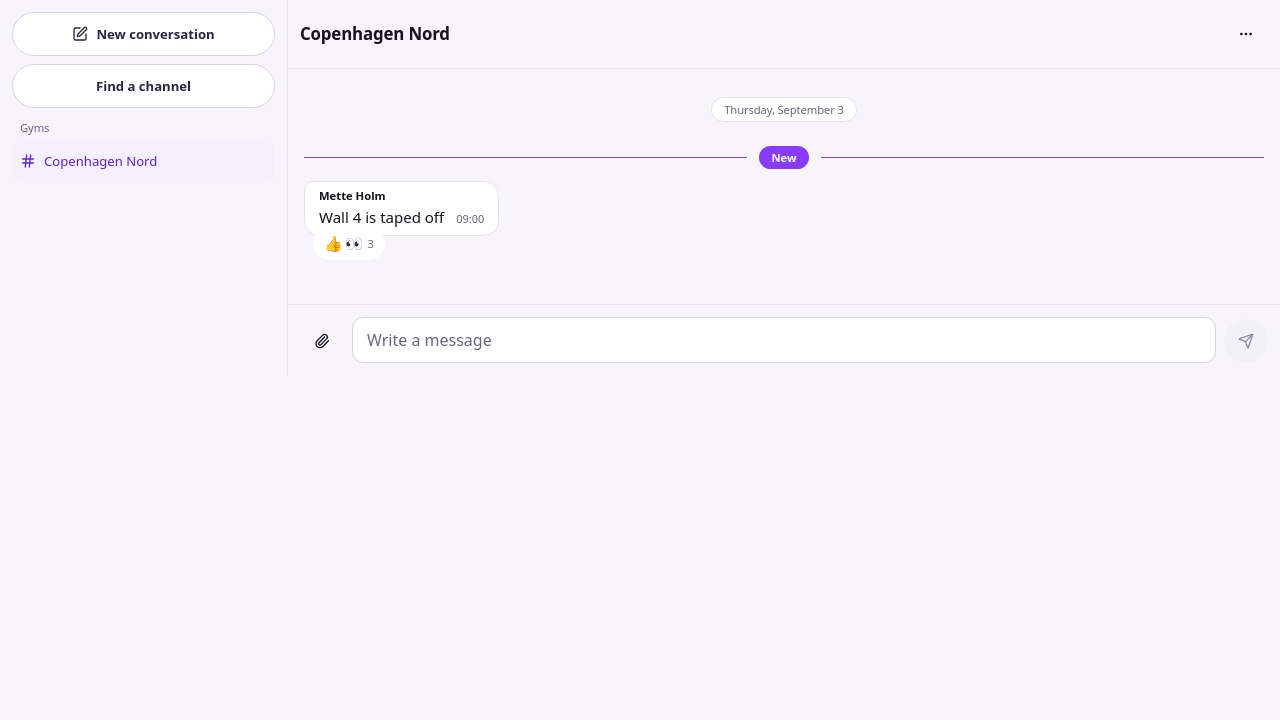
reacting › lists who reacted when a count is tapped
What coordinates should you click on to do the following:
click the button named "Reactions: 👍 2, 👀 1"
I would click on:
 (349, 243)
Its box is [316,229,382,257].
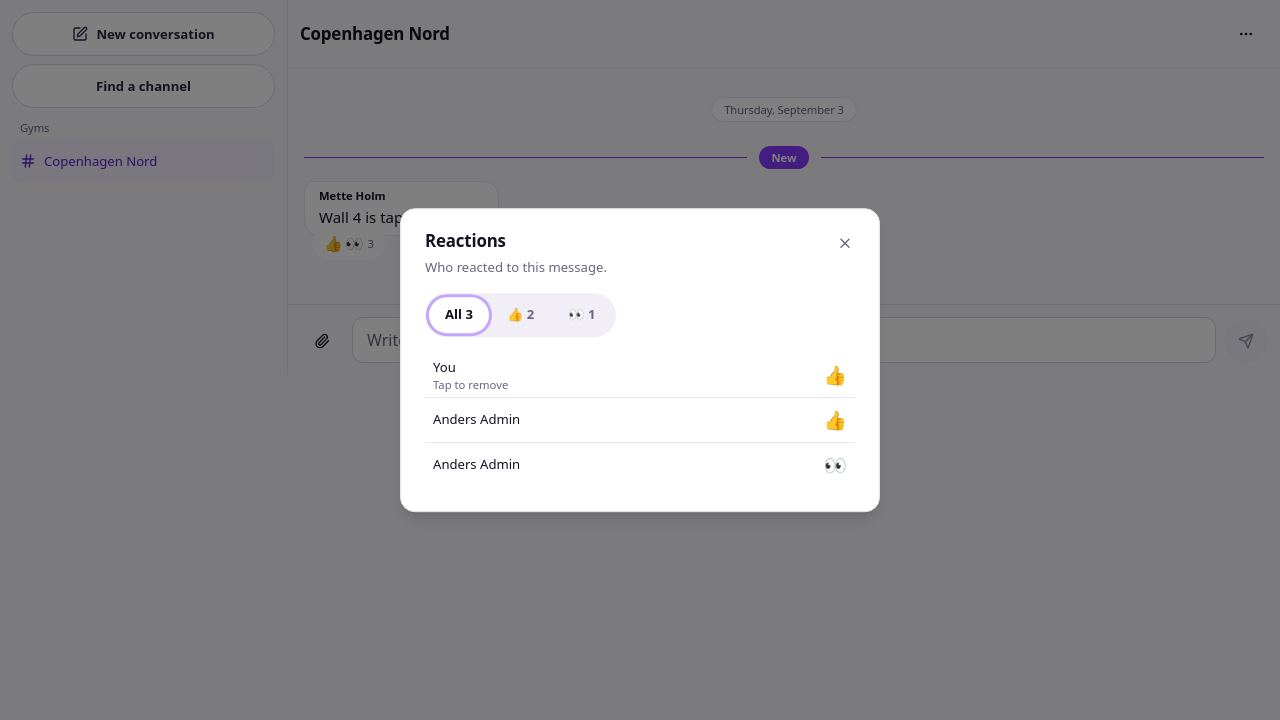
Check: the tab "All 3" is shown, box [429,297,489,333]
Check: the text "You" is shown, box [433,358,456,376]
Check: the text "Anders Admin" is shown 2 times, box [433,410,520,428]; [433,455,520,473]
What coordinates should you click on to do the following:
click the tab "👍 2"
I would click on:
 (521, 315)
Its box is [491,297,550,333].
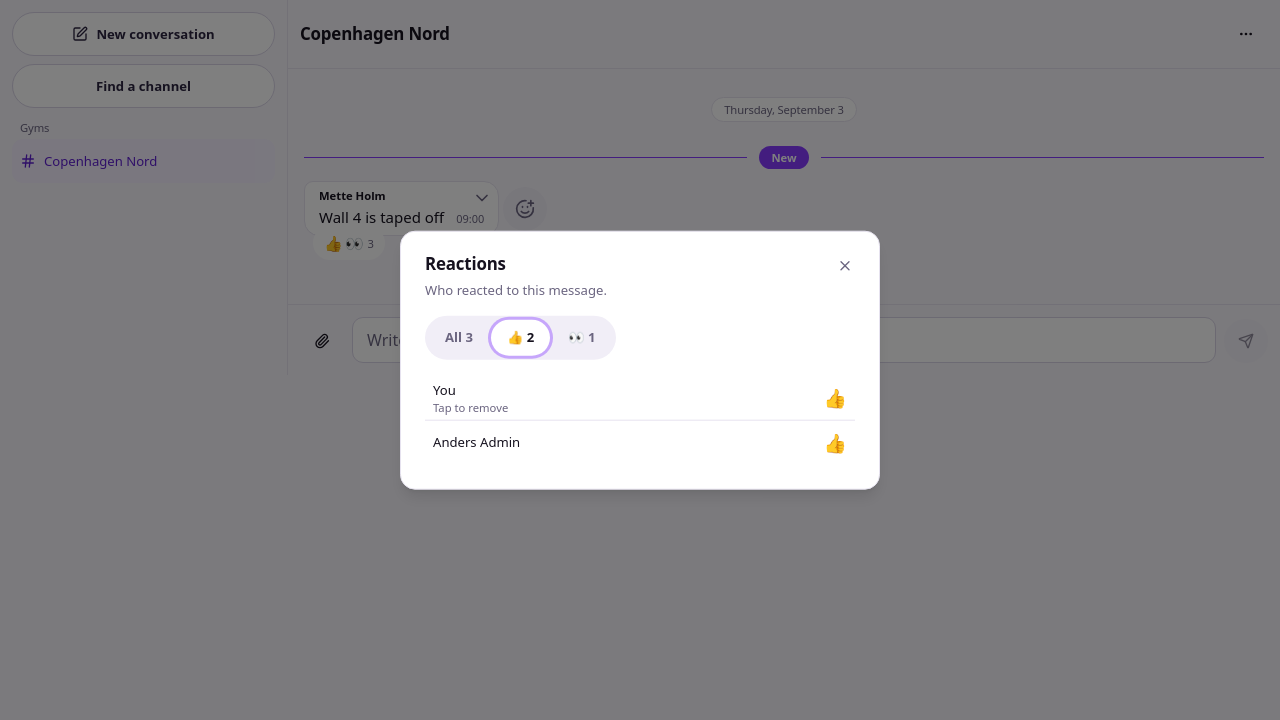
Check: the text "Anders Admin" is shown once, box [433,433,520,451]
